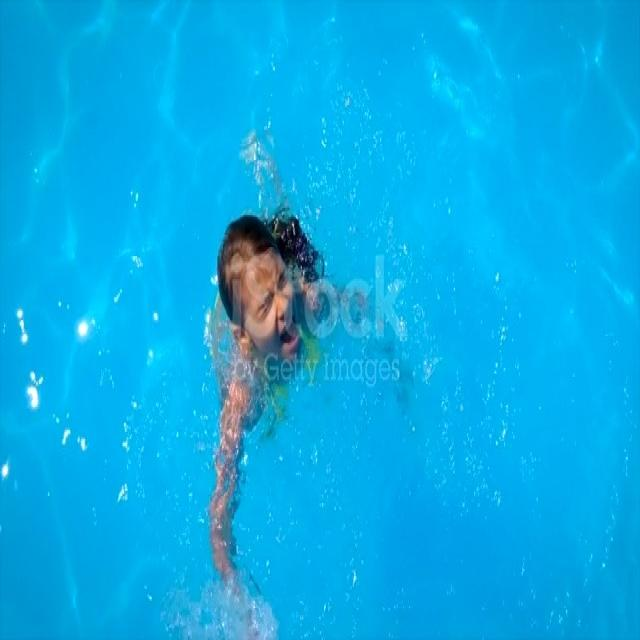Drowning: (208, 206, 325, 588)
